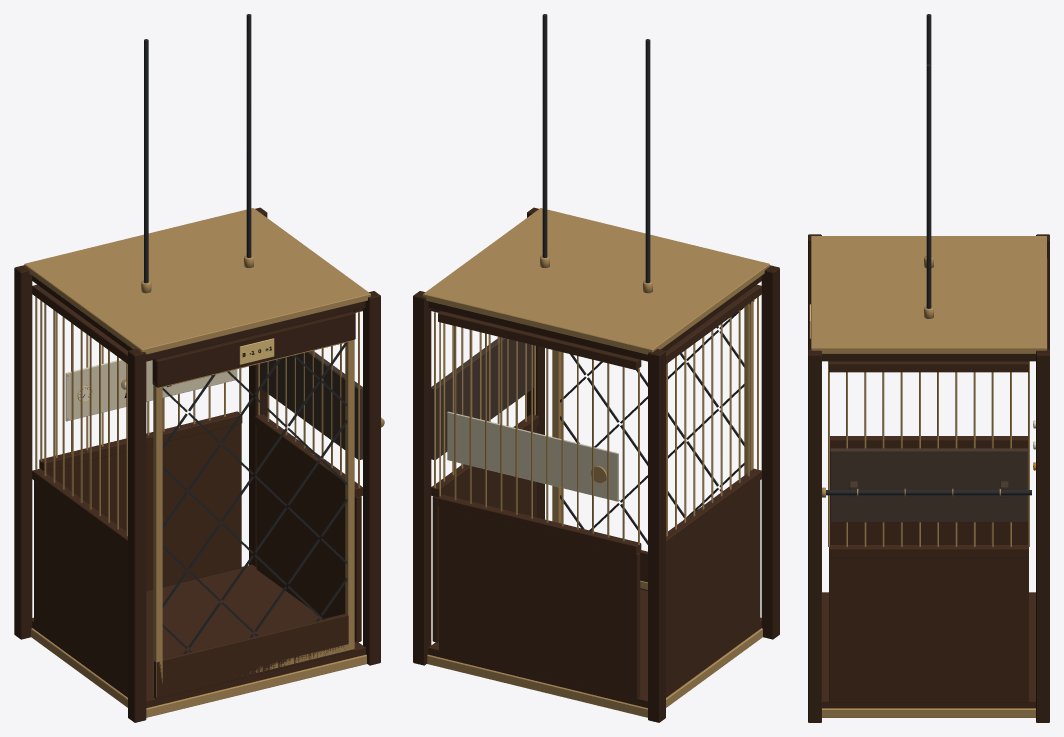
The model's file is book_lift_cage.glb.
3 renders of one model, left to right at view 1: azimuth 30°, elevation 25°; view 2: azimuth 150°, elevation 25°; view 3: azimuth 270°, elevation 25°, orthographic.
Parts seen in each view (by area): view 1: cage_body, IA_gate; view 2: cage_body, IA_gate; view 3: cage_body, IA_hook.
Boxes of the visible parts, x1,y1,x2,y2 form: cage_body: (14,14,380,722); IA_gate: (153,339,354,697); cage_body: (413,14,779,722); IA_gate: (552,300,753,589); cage_body: (808,14,1049,722); IA_hook: (822,487,1031,497).
Bounding box in the file's own units: 1.5 × 3.47 × 1.22.
